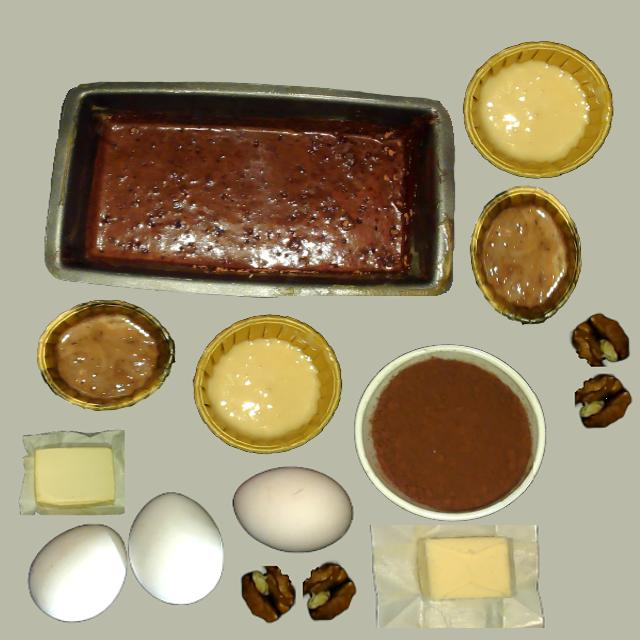Sugar: (354, 345, 540, 520)
